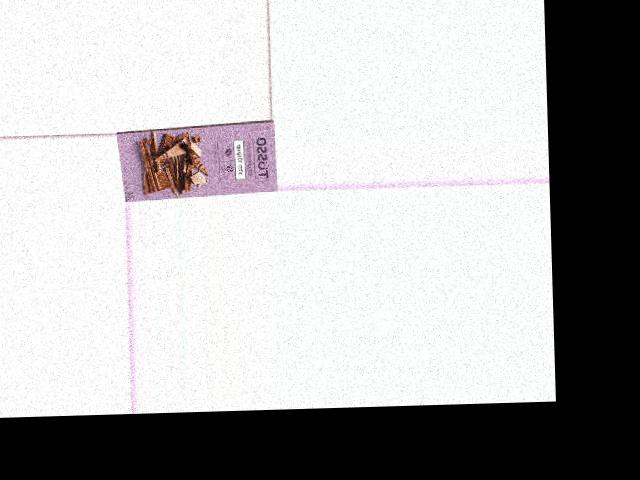chocolate: (116, 124, 274, 198)
